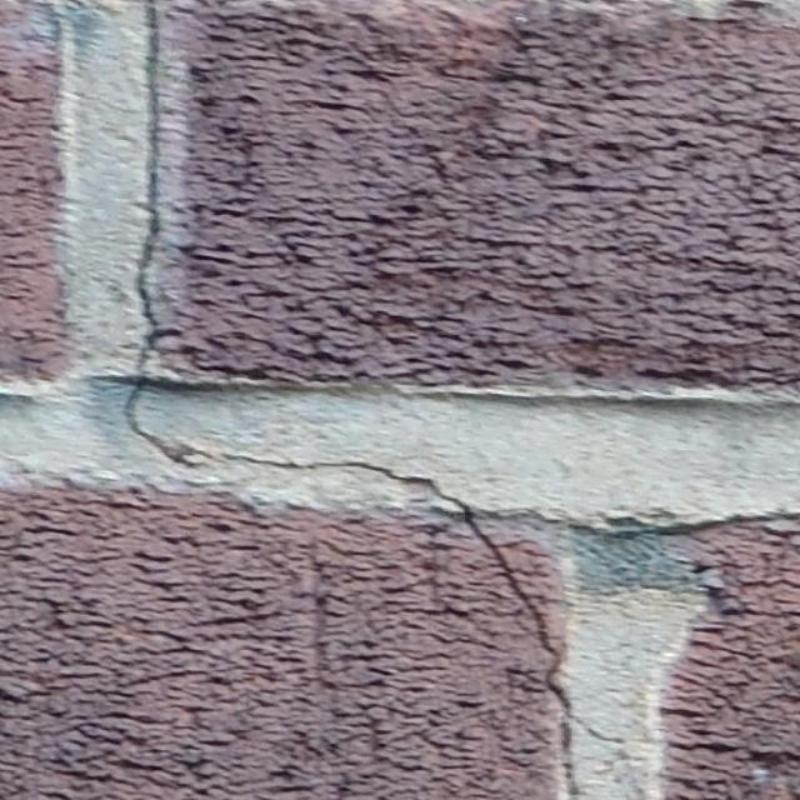pothole: (205, 453, 627, 799), (125, 0, 203, 463)
